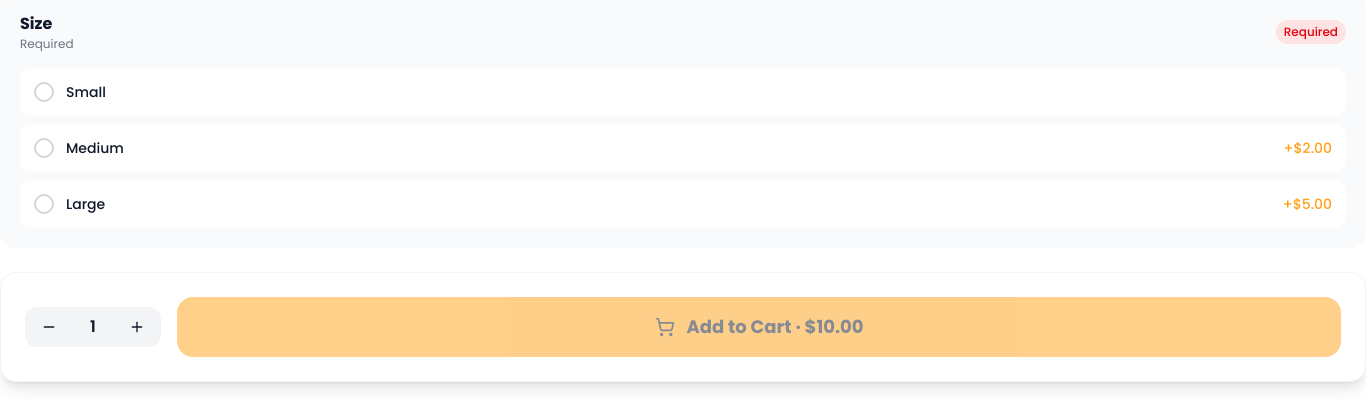
it: ModifierSelector — required validation › enables Add to Cart once the required group is satisfied
Expected: the button "Add to Cart · $10.00" is disabled, [177,297,1341,357]
Click the button "Small": (86, 92) [20,68,1346,116]
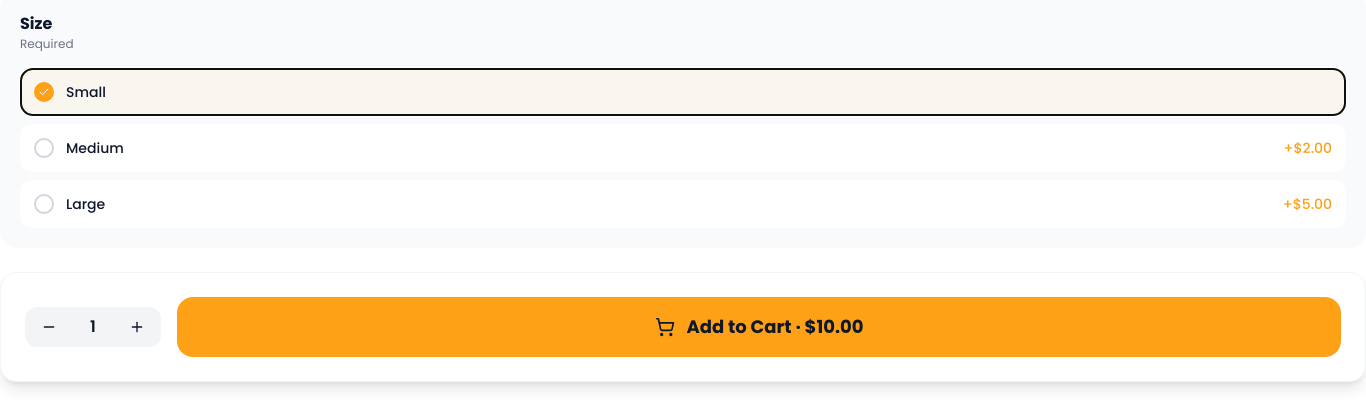
Expected: the button "Add to Cart · $10.00" is enabled, [177,297,1341,357]
